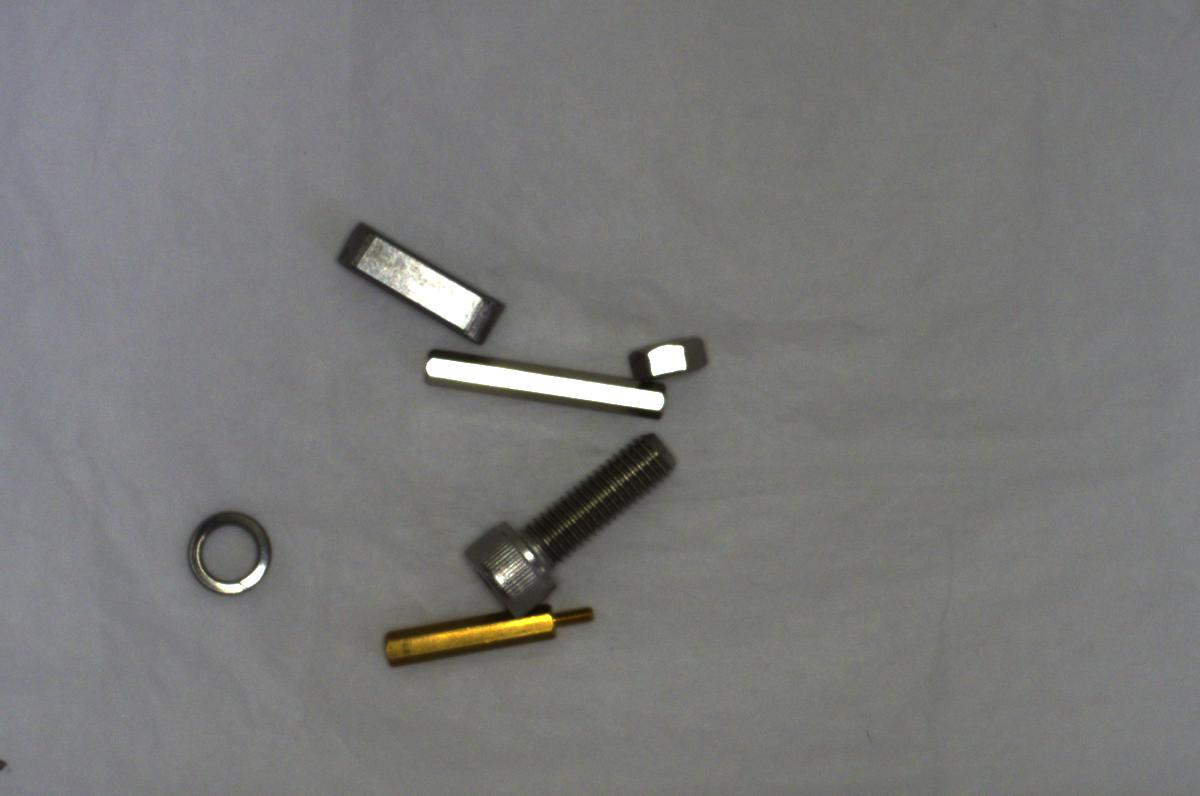Double hexagonal column: (413, 338, 668, 423)
Hexagon nut: (625, 322, 717, 385)
Hexagon pillar: (366, 603, 595, 668)
Hexagon screw: (458, 428, 680, 610)
Keybar: (335, 221, 511, 343)
Spring washer: (184, 500, 280, 596)
